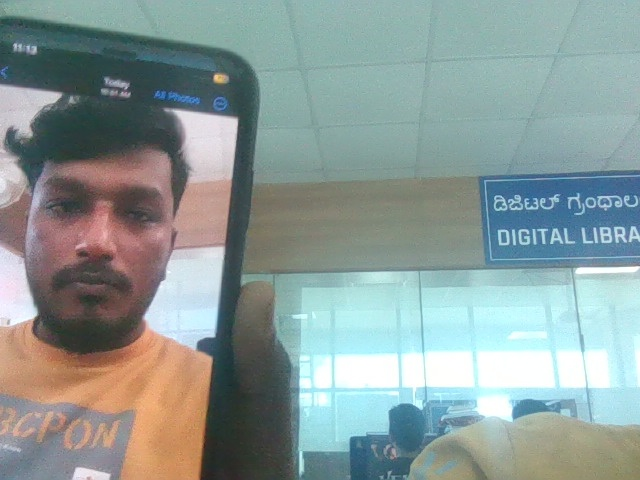fake: (4, 59, 212, 354)
